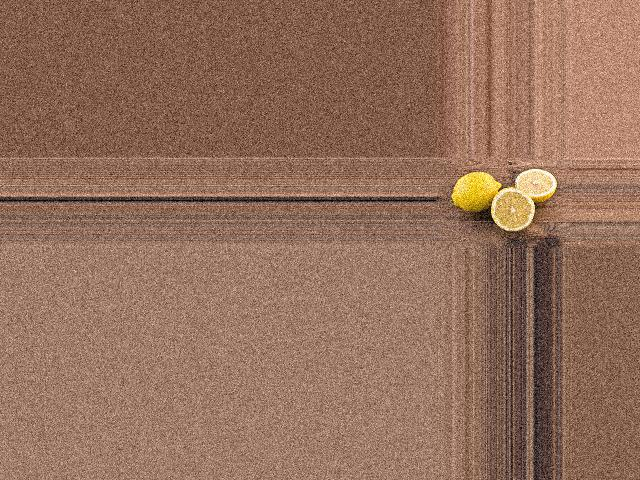lemon: (454, 166, 501, 213)
